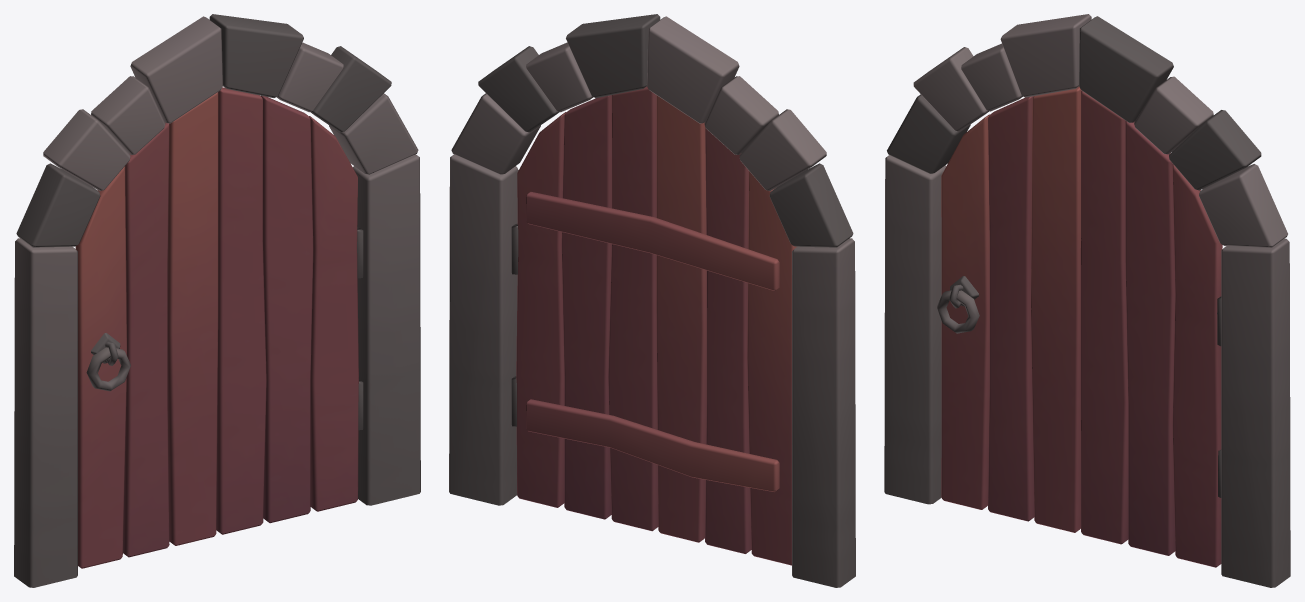
File: door4.glb
3 views of the same model, side by side, from view 1: azimuth 30°, elevation 25°; view 2: azimuth 150°, elevation 25°; view 3: azimuth 330°, elevation 25° (orthographic).
Visible parts, largest first — view 1: Door.011, Stone.arch.010; view 2: Door.011, Stone.arch.010; view 3: Door.011, Stone.arch.010.
Boxes of the visible parts, <box> form: Door.011: <box>75,87,363,568</box>; Stone.arch.010: <box>14,14,420,587</box>; Door.011: <box>511,86,796,565</box>; Stone.arch.010: <box>449,14,855,587</box>; Door.011: <box>937,86,1222,567</box>; Stone.arch.010: <box>884,14,1290,587</box>.
Bounding box in the file's own units: 1.87 × 2.35 × 0.2269.
Materials: 1 (1 with a texture image).
